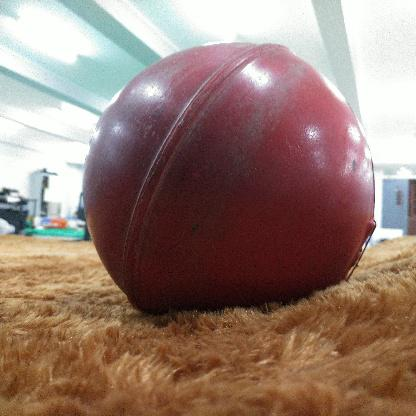red_buoy: (83, 41, 378, 309)
